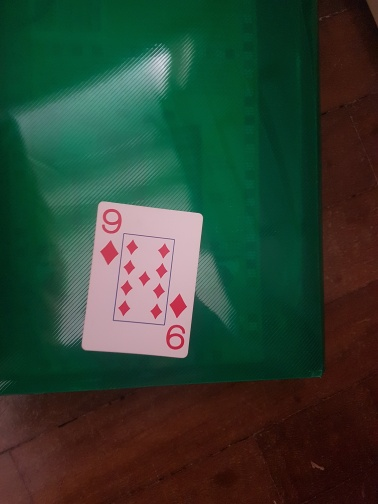nine: (81, 201, 202, 358)
